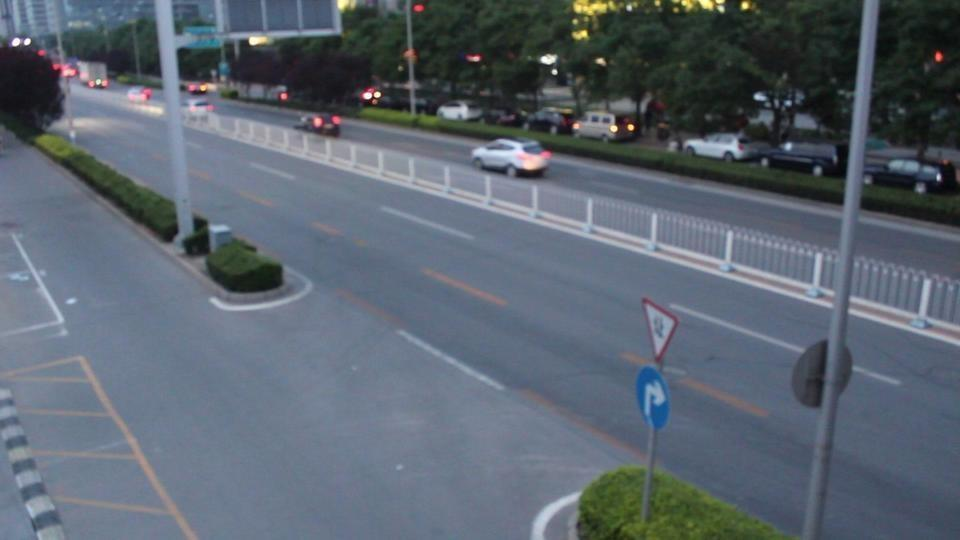car: (862, 158, 958, 194), (471, 138, 553, 177), (761, 141, 841, 176), (685, 133, 764, 164), (572, 112, 640, 143), (523, 108, 578, 135), (297, 113, 342, 139), (436, 101, 483, 122), (127, 86, 152, 103), (185, 81, 210, 95)
